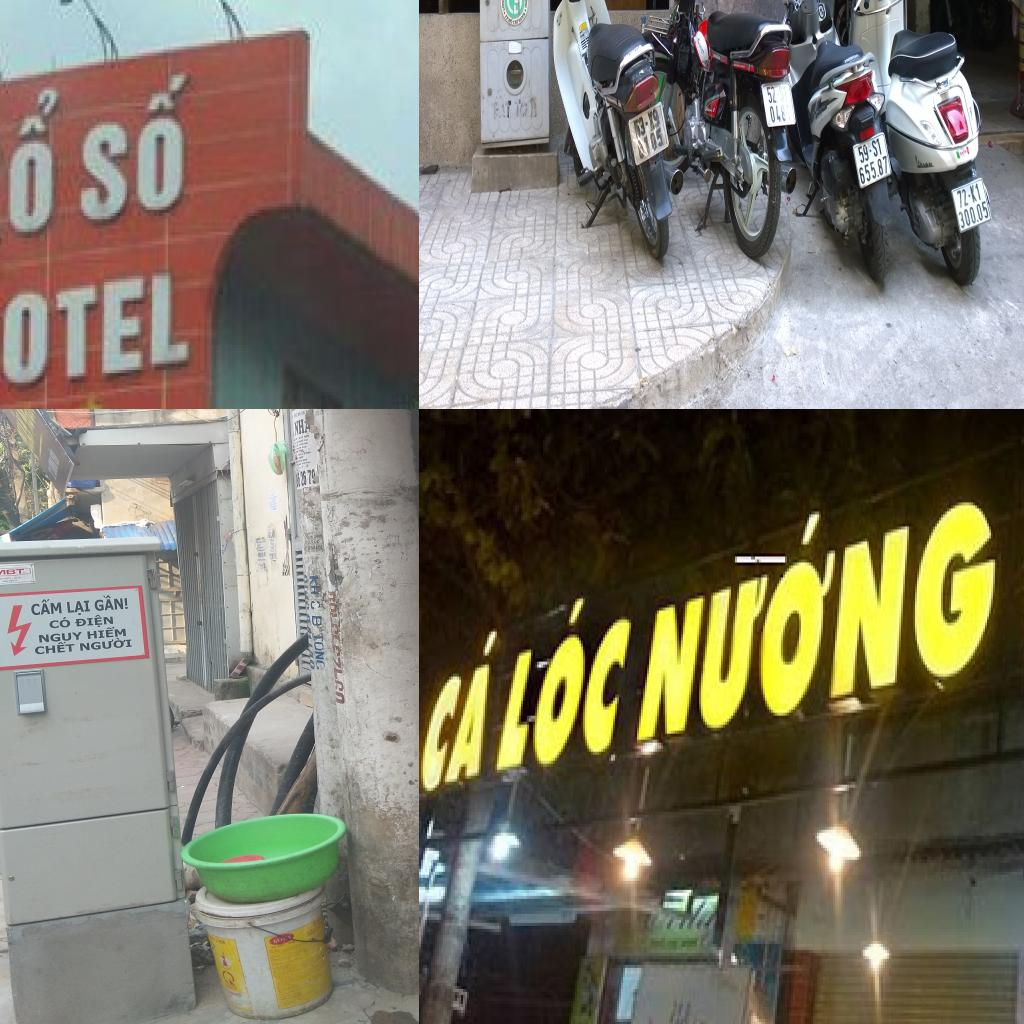text: (631, 454, 1005, 749), (0, 253, 200, 404), (491, 586, 645, 778), (79, 68, 200, 228), (419, 631, 507, 793), (0, 78, 65, 257), (956, 197, 990, 229), (636, 125, 664, 162), (858, 154, 890, 186), (633, 105, 661, 141), (79, 636, 133, 652), (856, 136, 883, 166), (956, 180, 982, 210), (93, 594, 130, 612), (74, 613, 115, 629), (33, 641, 76, 656), (85, 625, 127, 640), (30, 598, 64, 616), (38, 631, 82, 644), (768, 103, 793, 124), (313, 632, 326, 670), (765, 85, 789, 105), (66, 600, 92, 616), (914, 154, 936, 170), (48, 616, 72, 630), (813, 102, 828, 121), (297, 469, 311, 487), (309, 575, 320, 595), (294, 418, 305, 436), (844, 53, 859, 65), (0, 568, 25, 575), (311, 614, 323, 626), (310, 600, 322, 611), (518, 11, 527, 24), (698, 42, 705, 58), (958, 147, 968, 157), (712, 52, 721, 61), (500, 0, 506, 12), (504, 12, 510, 23), (705, 105, 713, 113), (218, 938, 226, 946), (273, 938, 283, 944), (296, 411, 305, 417), (508, 17, 514, 25), (512, 18, 518, 26), (303, 450, 311, 456), (524, 0, 528, 10), (302, 461, 312, 465), (14, 576, 22, 580), (2, 580, 18, 582), (314, 539, 320, 544), (299, 435, 304, 440), (712, 108, 716, 114), (304, 434, 310, 438), (4, 577, 11, 580), (298, 452, 303, 456), (302, 445, 307, 449), (304, 438, 308, 442), (0, 577, 4, 580)
